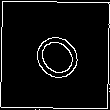O_SE: (21, 21, 89, 89)
